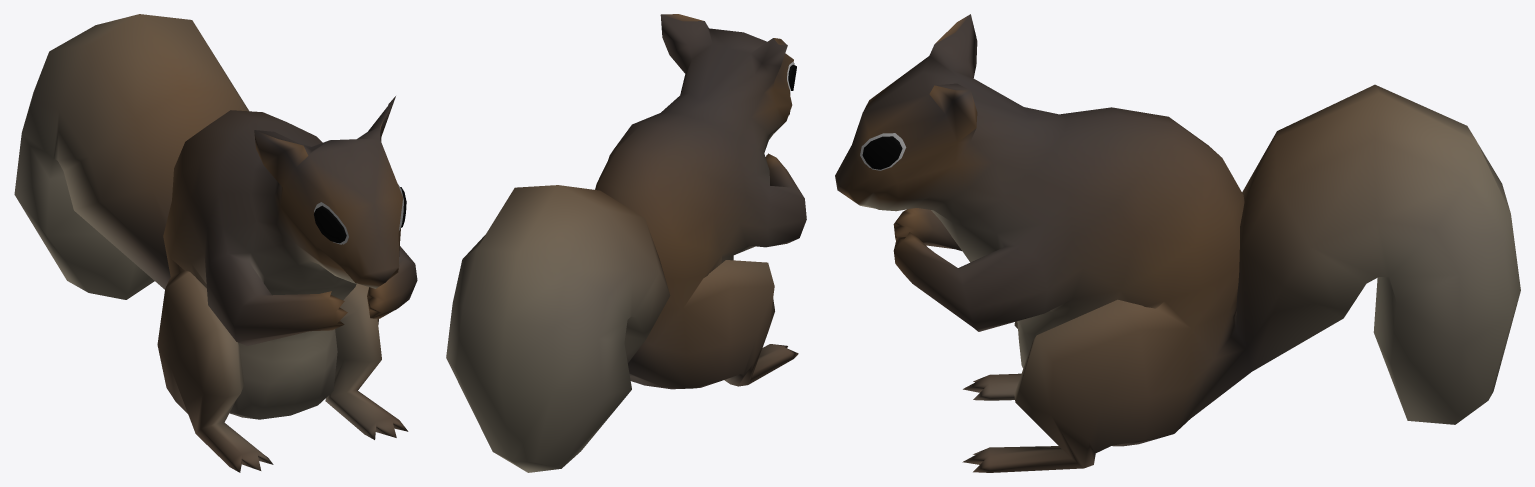
File: animals-animals-graysquirrel_v2.glb
3 views of the same model, side by side, from view 1: azimuth 30°, elevation 25°; view 2: azimuth 150°, elevation 25°; view 3: azimuth 270°, elevation 25° (orthographic). The views are drawn at different scales.
Parts seen in each view (by area): view 1: GraySquirrel_v2; view 2: GraySquirrel_v2; view 3: GraySquirrel_v2.
Part boxes in pixels (left/top/right/bottom): GraySquirrel_v2: left=14, top=14, right=417, bottom=472; GraySquirrel_v2: left=446, top=14, right=806, bottom=472; GraySquirrel_v2: left=835, top=14, right=1520, bottom=472.
Size of the model in its own units: 0.1045 by 0.1772 by 0.2936.
